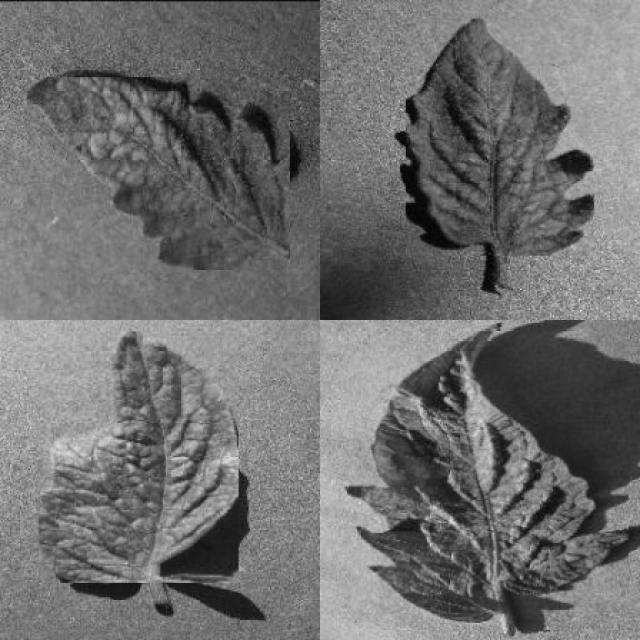Mosaic Virus: (27, 77, 290, 270), (406, 18, 594, 255)
Spider Mites: (347, 324, 629, 624), (38, 332, 238, 582)
